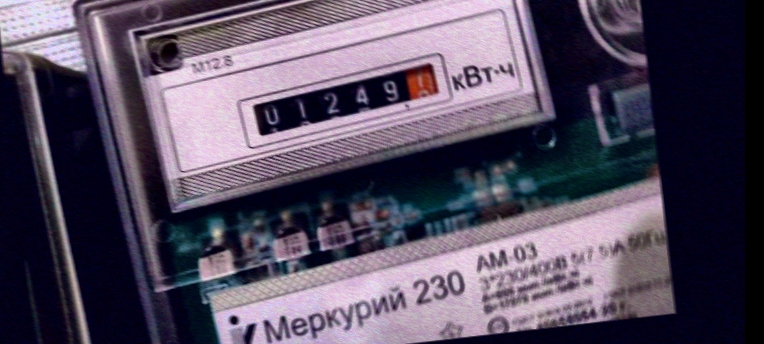0: (257, 99, 279, 127)
1: (289, 95, 307, 121)
2: (318, 89, 341, 117)
4: (350, 79, 370, 108)
7: (408, 65, 426, 91)
9: (378, 76, 399, 103)
screen: (227, 53, 467, 154)
